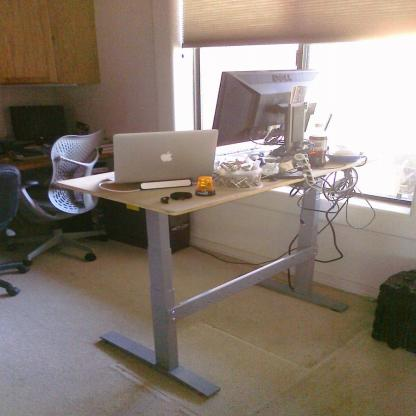board: (105, 127, 226, 194), (307, 121, 332, 169)
